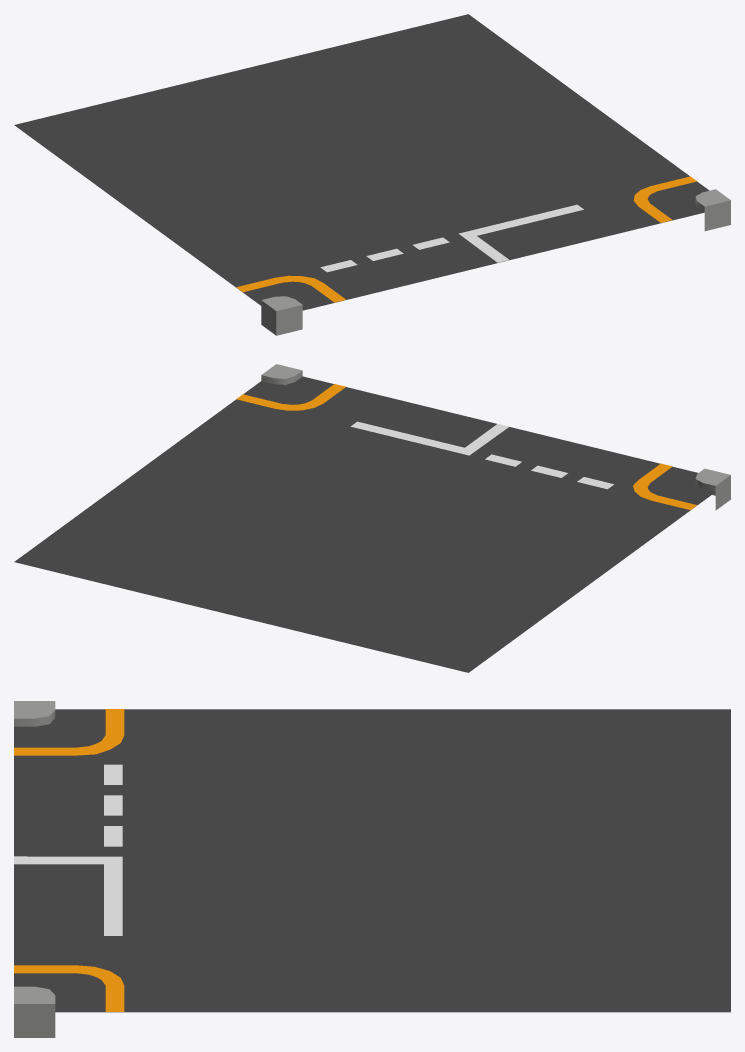
The model's file is ParkingRoad_A_1.fbx.
3 renders of one model, top to bottom at view 1: azimuth 30°, elevation 25°; view 2: azimuth 150°, elevation 25°; view 3: azimuth 270°, elevation 25°, orthographic. The views are drawn at different scales.
Visible parts, largest first — view 1: ParkingRoad_A_1; view 2: ParkingRoad_A_1; view 3: ParkingRoad_A_1.
Boxes of the visible parts, box(x1,y1,x2,y2) form: ParkingRoad_A_1: box(14, 14, 730, 335); ParkingRoad_A_1: box(14, 364, 730, 672); ParkingRoad_A_1: box(14, 701, 730, 1037).
Bounding box in the file's own units: 800 × 41.48 × 800.
